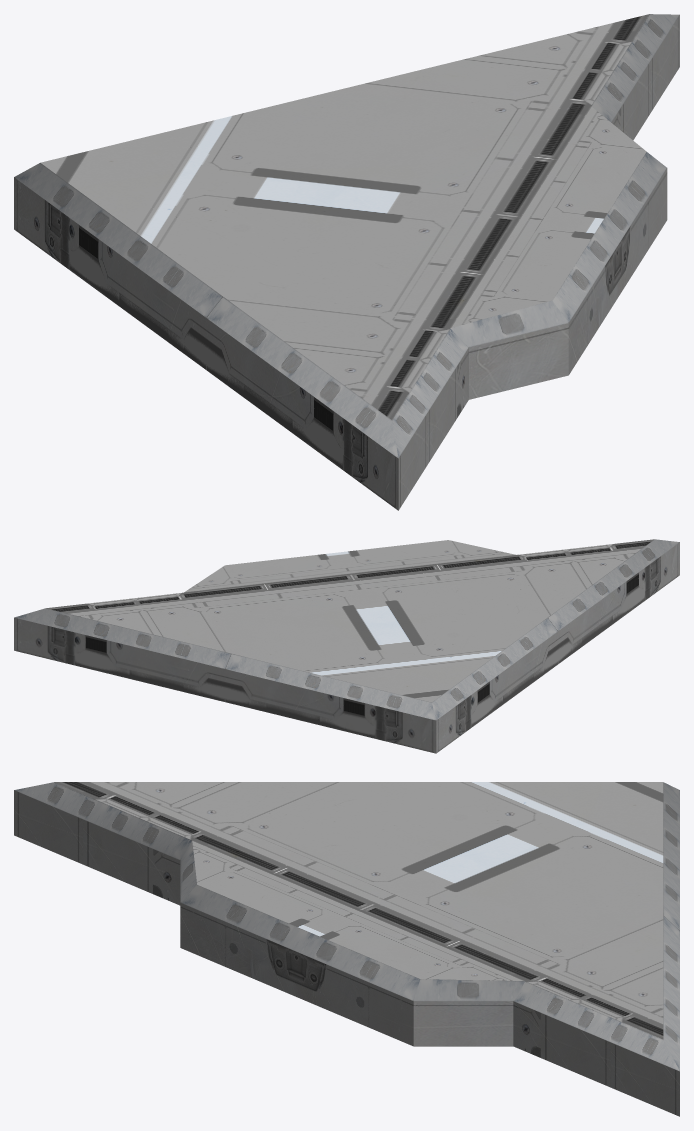
Rendered from SM_FloorHalf2.fbx.
3 views of the same model, one above another, from view 1: azimuth 30°, elevation 25°; view 2: azimuth 150°, elevation 25°; view 3: azimuth 270°, elevation 25° (orthographic). The views are drawn at different scales.
Parts seen in each view (by area): view 1: SM_FloorHalf2_LOD0; view 2: SM_FloorHalf2_LOD0; view 3: SM_FloorHalf2_LOD0.
Boxes of the visible parts, bbox=[...] form: SM_FloorHalf2_LOD0: bbox=[14, 14, 679, 510]; SM_FloorHalf2_LOD0: bbox=[14, 539, 679, 753]; SM_FloorHalf2_LOD0: bbox=[14, 782, 679, 1116].
Bounding box in the file's own units: 200 × 200 × 20.
3 materials, 3 textured.
